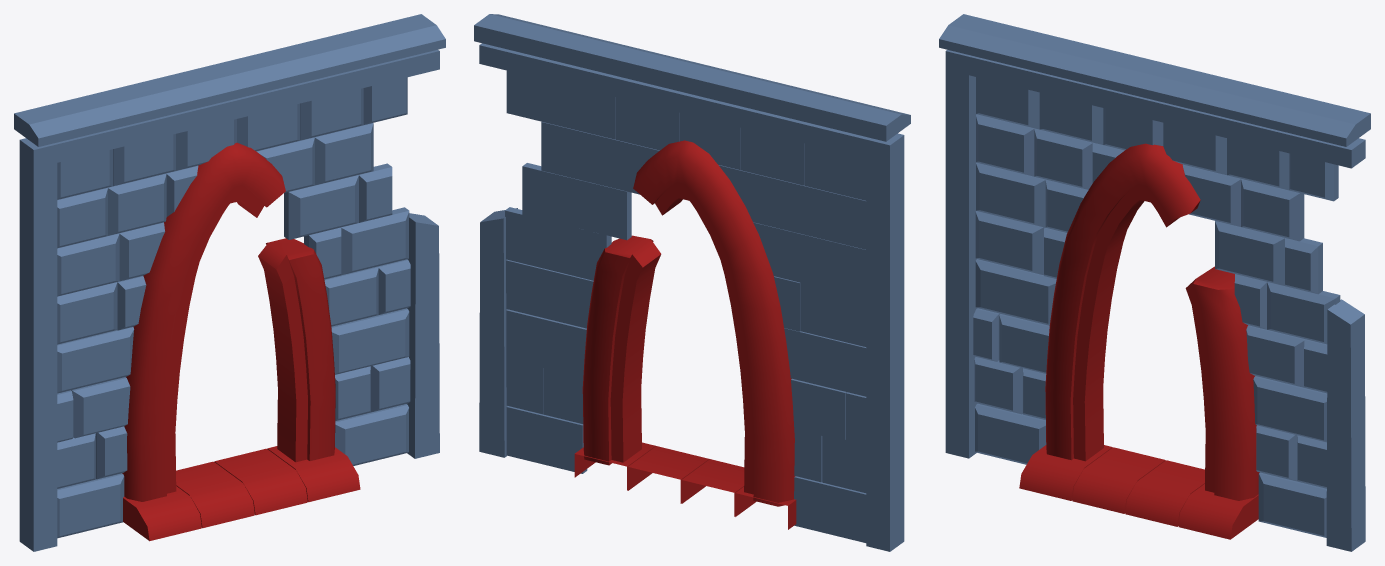
File: Ruins_Window_3.FBX
3 views of the same model, side by side, from view 1: azimuth 30°, elevation 25°; view 2: azimuth 150°, elevation 25°; view 3: azimuth 330°, elevation 25° (orthographic).
Visible parts, largest first — view 1: Box039, Box038; view 2: Box039, Box038; view 3: Box039, Box038.
Boxes of the visible parts, x1,y1,x2,y2 form: Box039: [14, 14, 445, 551]; Box038: [122, 142, 360, 541]; Box039: [474, 14, 910, 551]; Box038: [574, 140, 796, 529]; Box039: [939, 14, 1370, 551]; Box038: [1019, 143, 1259, 539].
Bounding box in the file's own units: 62.8 × 62.59 × 11.01.
